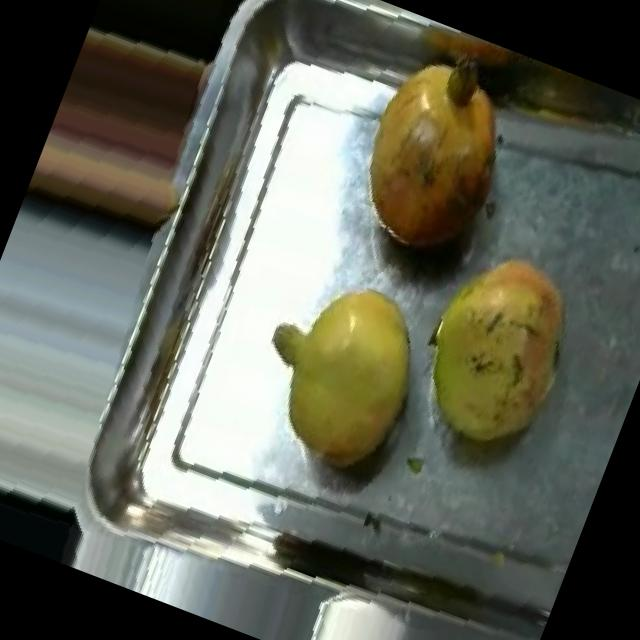fruit: (221, 242, 453, 499), (386, 221, 610, 479), (325, 29, 549, 286)
